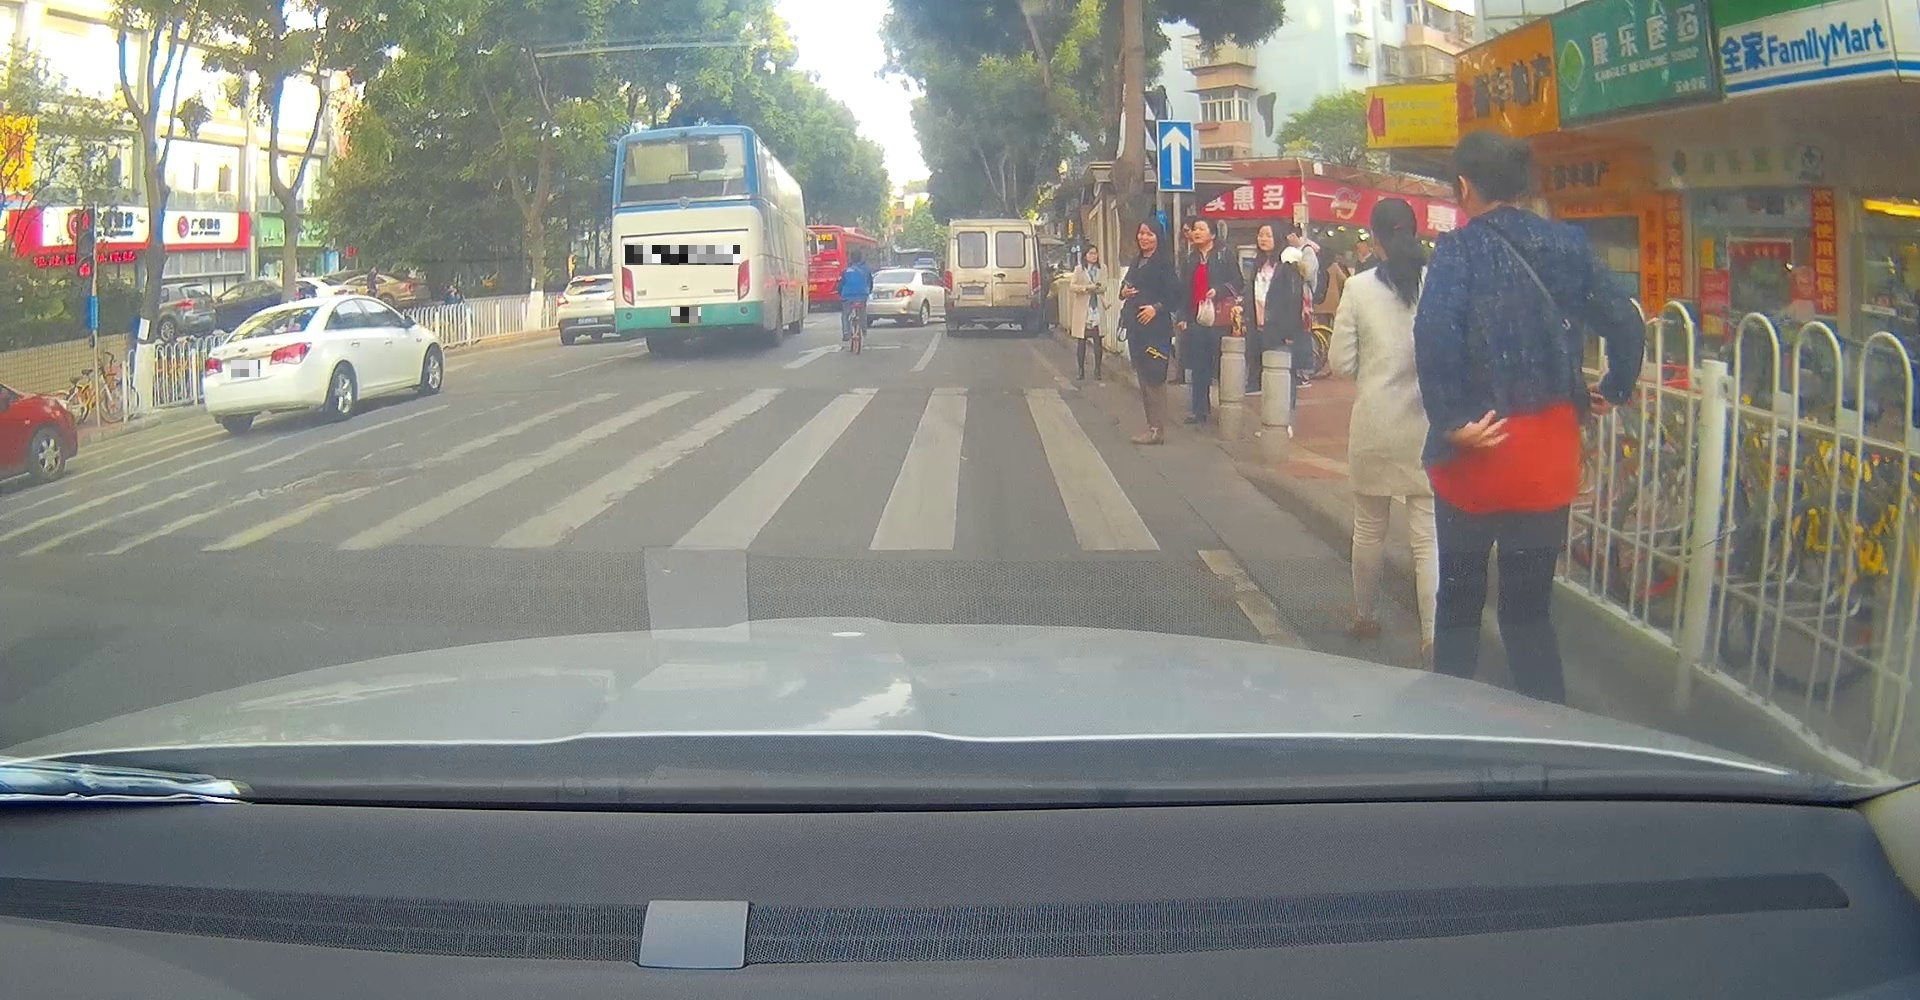L_light: (621, 266, 634, 306), (202, 357, 222, 378), (943, 270, 952, 292)
R_light: (269, 341, 312, 365), (737, 259, 750, 301), (1030, 269, 1041, 292)
T_light: (667, 194, 701, 204), (268, 308, 284, 316), (983, 225, 999, 231)
day-no: (611, 126, 766, 353), (201, 297, 321, 437), (943, 220, 1041, 338)
plate_1: (231, 360, 260, 377)
plate_2: (625, 245, 740, 265)
plate_3: (670, 307, 701, 324)
